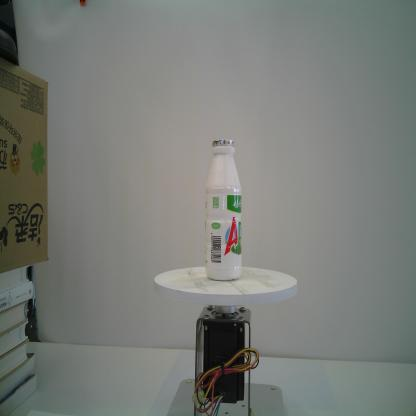Milk: (202, 139, 244, 282)
